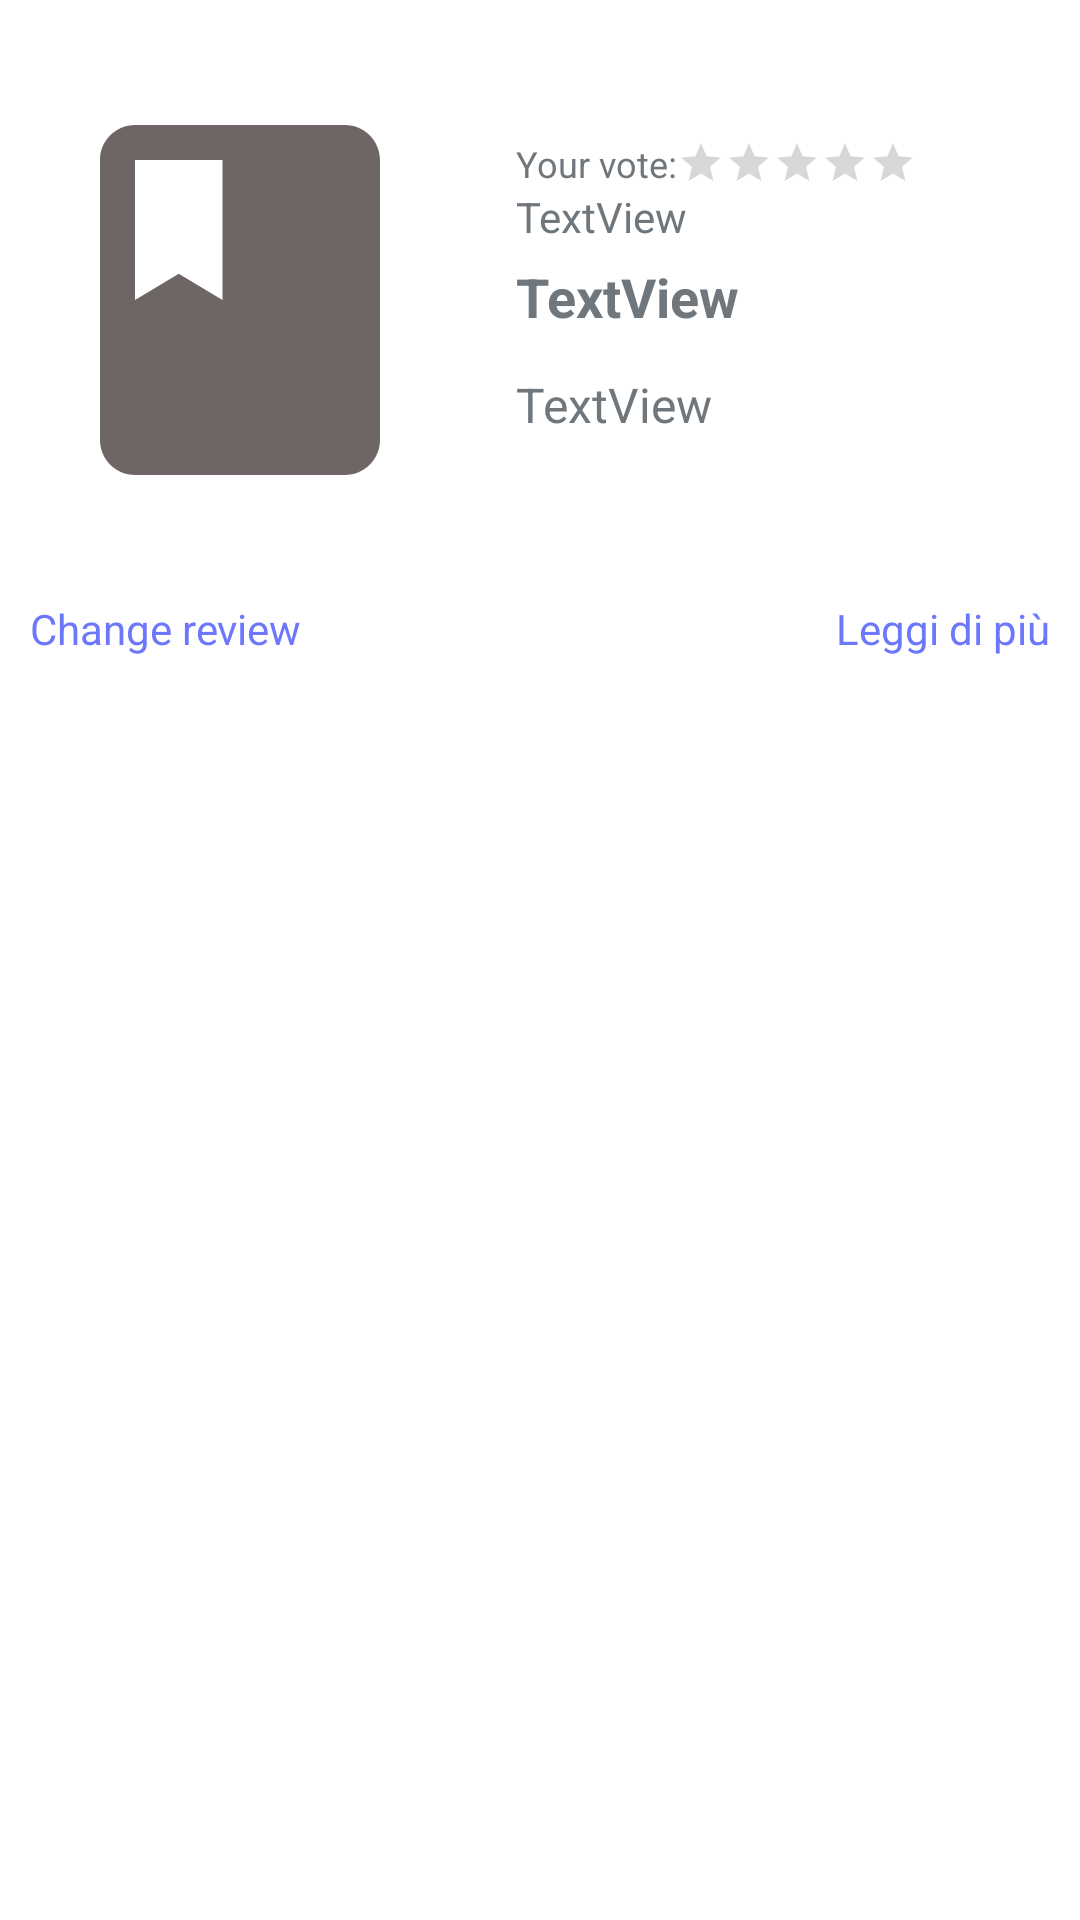

Where to tap for icons on this 1080x1920 app screen, as point (x, y):
book: point (240, 300)
